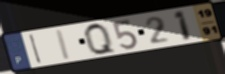1: (173, 10, 195, 42)
2: (145, 15, 172, 46)
5: (111, 18, 139, 51)
I: (54, 28, 72, 62), (28, 33, 44, 65)
Q: (83, 22, 119, 56)
